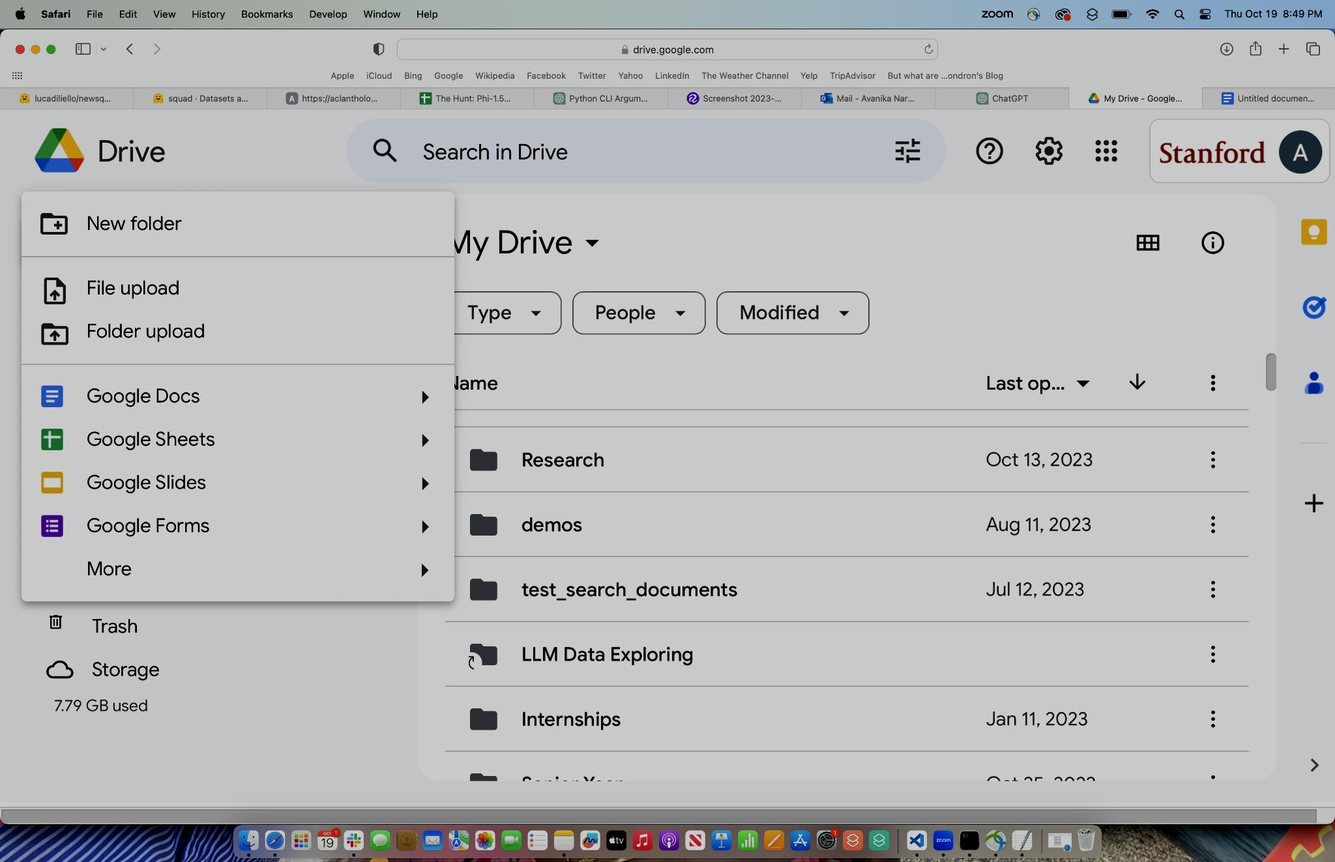webelement: (36, 202, 226, 250), (36, 421, 229, 468), (42, 502, 234, 547), (34, 266, 206, 312), (44, 551, 231, 592), (34, 377, 224, 414), (38, 316, 214, 355), (31, 471, 233, 501)
